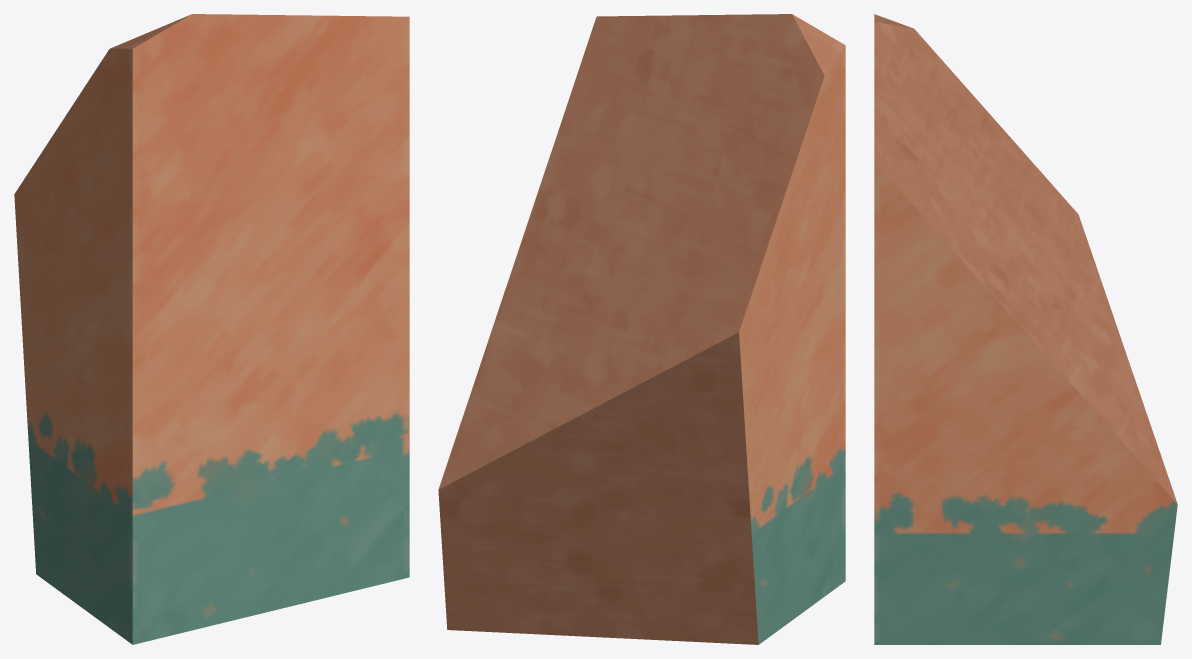
File: stairs_narrow_s05.fbx
3 renders of one model, left to right at view 1: azimuth 30°, elevation 25°; view 2: azimuth 150°, elevation 25°; view 3: azimuth 270°, elevation 25°, orthographic. The views are drawn at different scales.
Visible parts, largest first — view 1: stairs_narrow_s05; view 2: stairs_narrow_s05; view 3: stairs_narrow_s05.
Boxes of the visible parts, left/top/right/bottom form: stairs_narrow_s05: left=14, top=14, right=409, bottom=644; stairs_narrow_s05: left=438, top=14, right=845, bottom=644; stairs_narrow_s05: left=874, top=14, right=1177, bottom=644.
Bounding box in the file's own units: 4 × 8.51 × 4.4.
